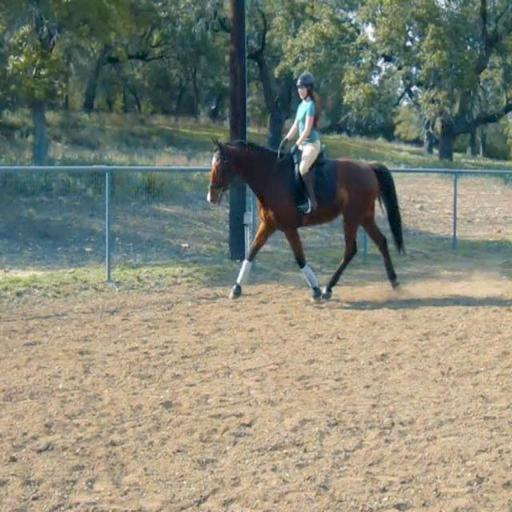horse: (204, 136, 408, 306)
